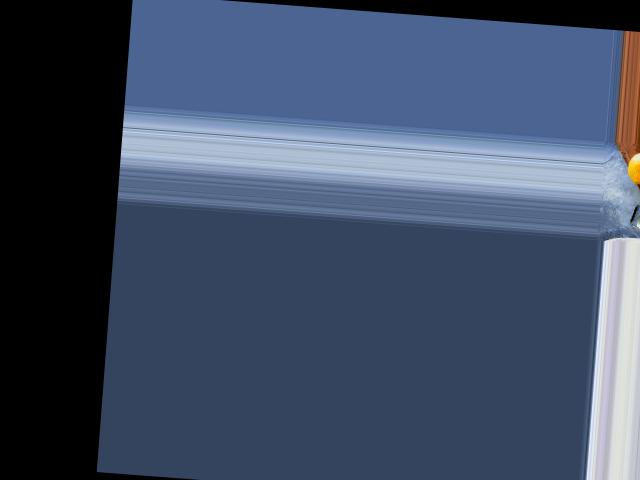lemon: (626, 149, 640, 185)
